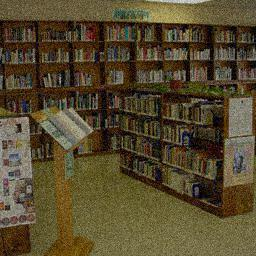Otro Obstaculo: (37, 110, 94, 251)
